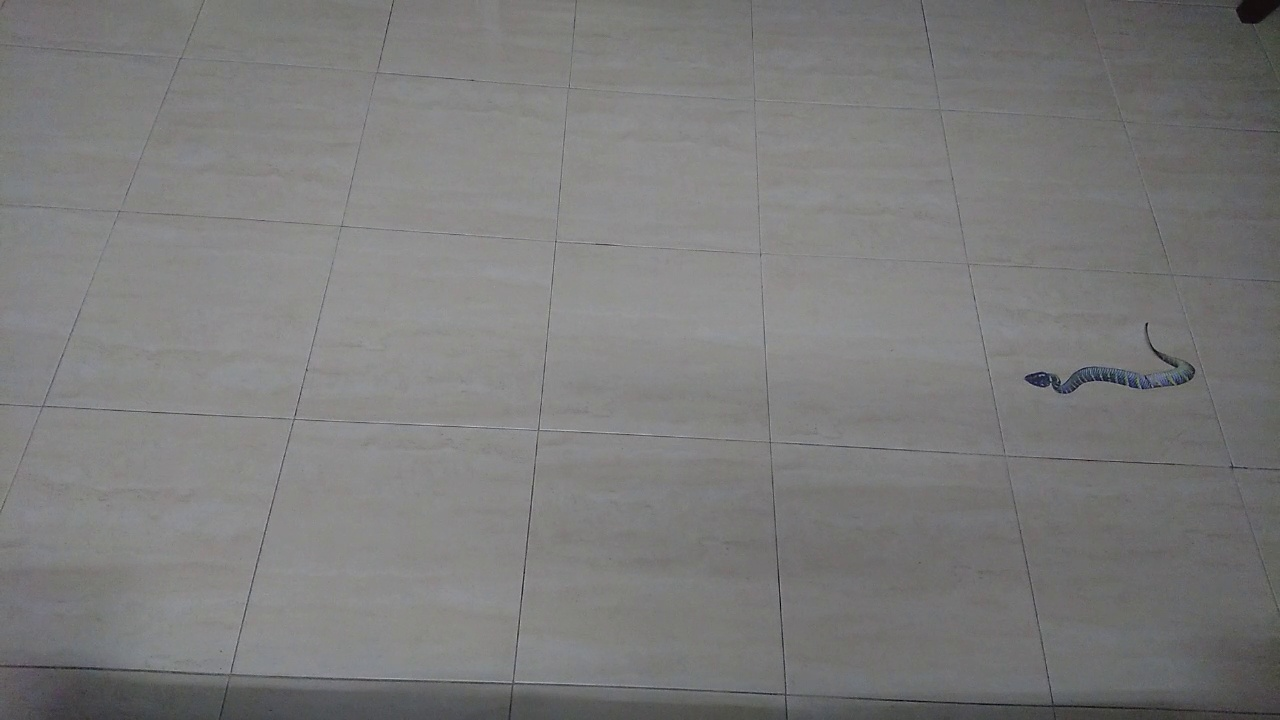snake: (1007, 309, 1216, 414)
